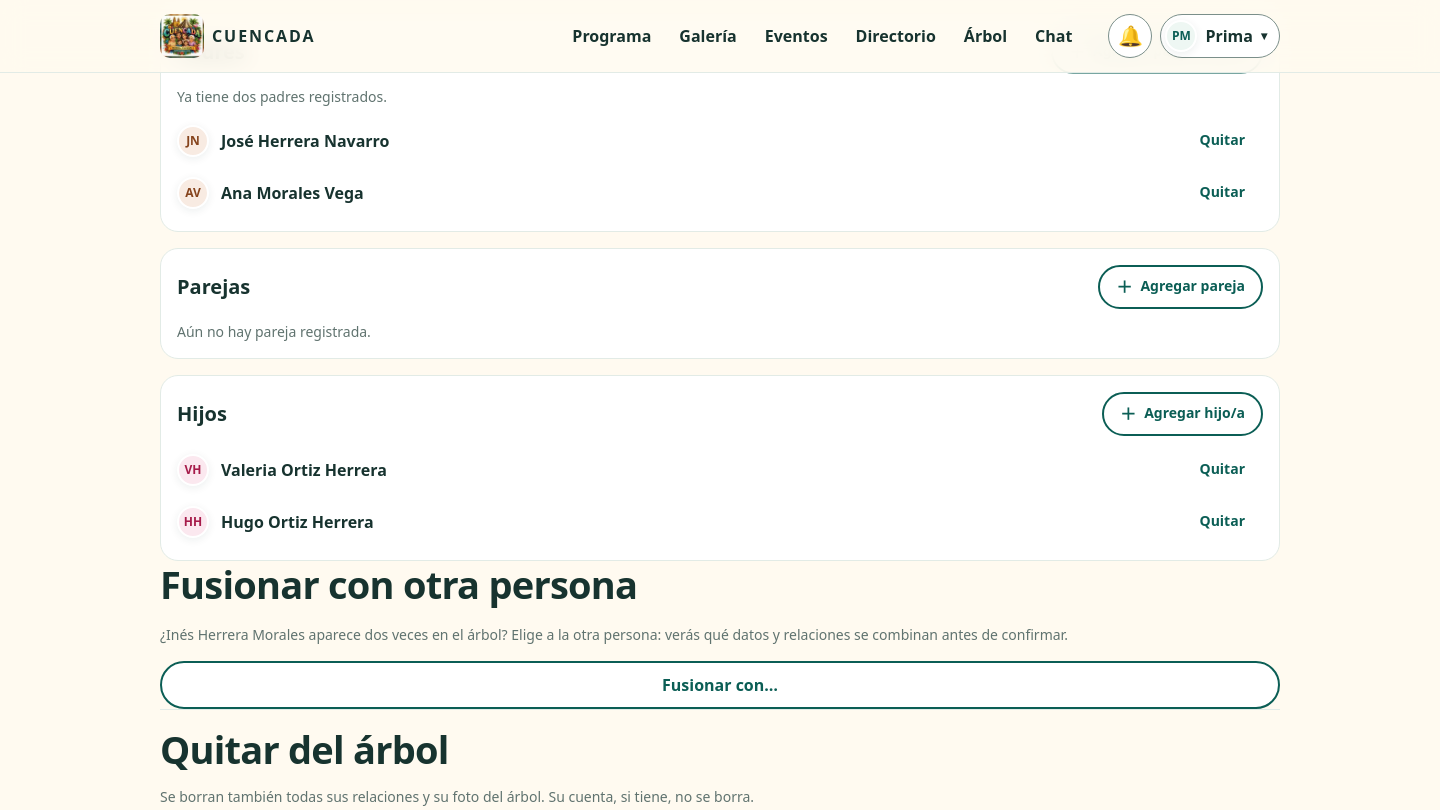
AdminPersonPage › shows the server's cycle error in Spanish inside the picker
(page scrolled)
Expected: the button "＋ Agregar padre/madre" is disabled, left=1051, top=30, right=1263, bottom=74
Click the button "＋ Agregar hijo/a": click(1183, 414) left=1102, top=392, right=1263, bottom=436
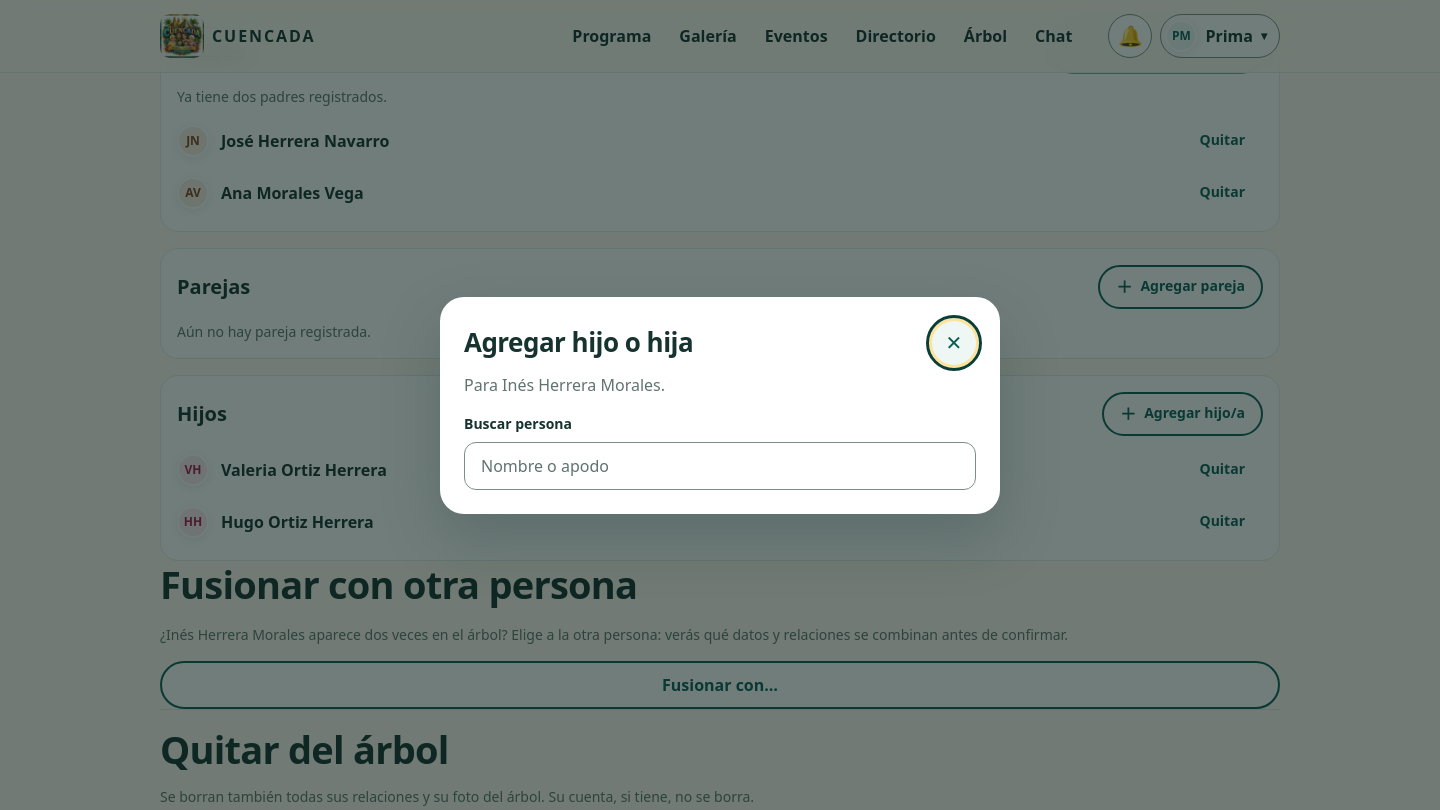
In the search field labelled "Buscar persona": (720, 466) left=464, top=442, right=976, bottom=490, type "herrera soto"
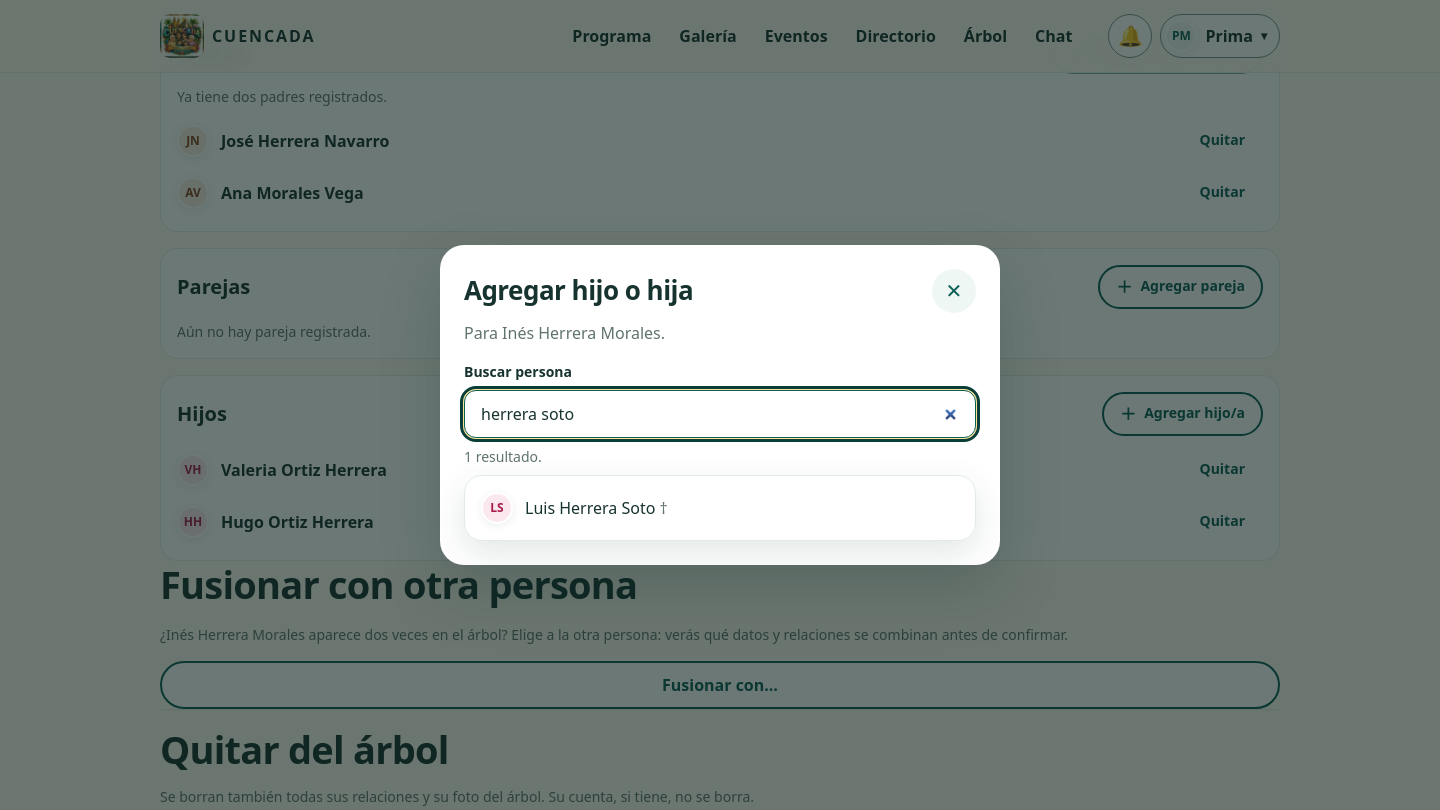
Click the button with aria-label "Elegir a Luis Herrera Soto": click(497, 508) left=473, top=484, right=967, bottom=532
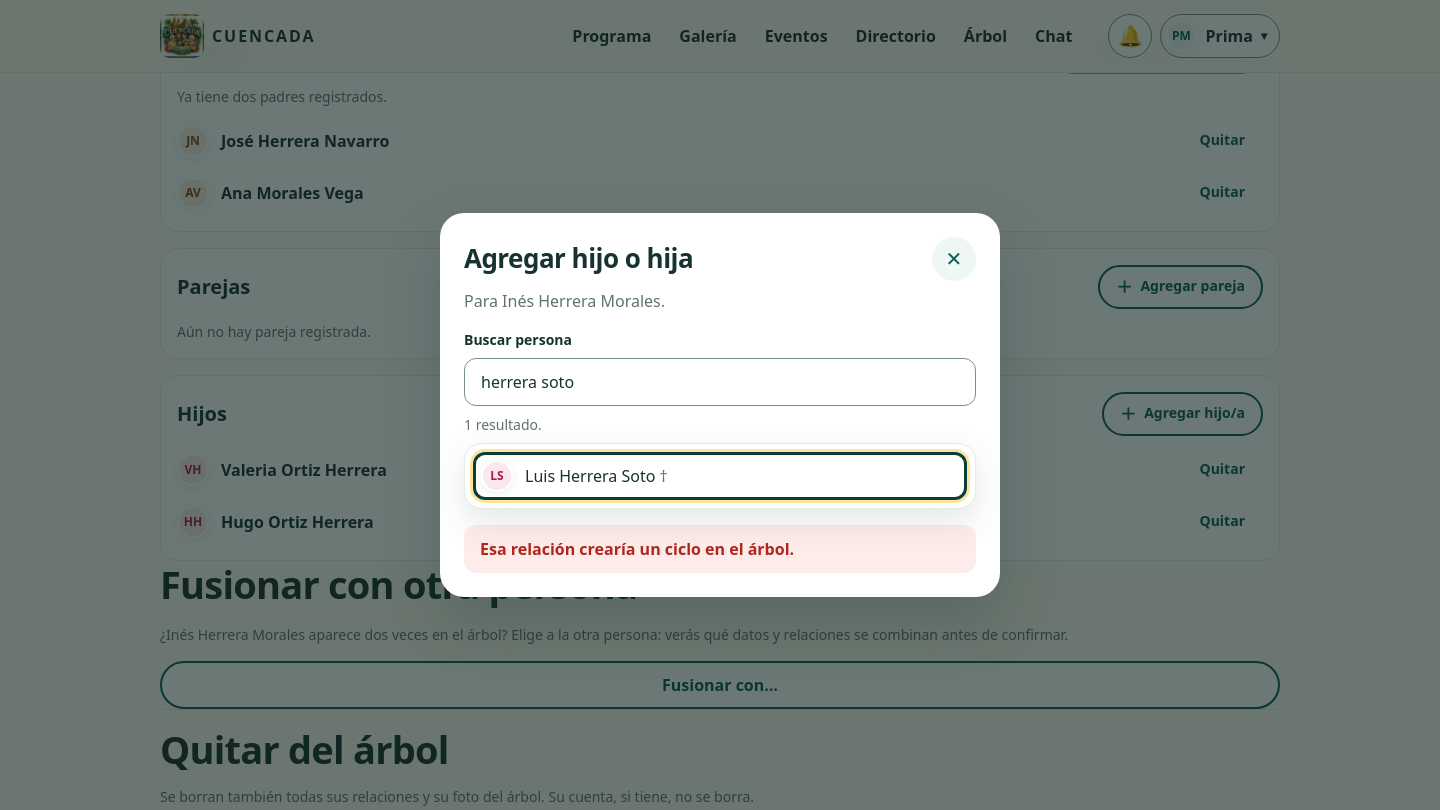
Expected: the dialog "Agregar hijo o hija" is shown, left=440, top=213, right=1000, bottom=597
Expected: the message reads "Esa relación crearía un ciclo en el árbol.", left=480, top=538, right=794, bottom=560
